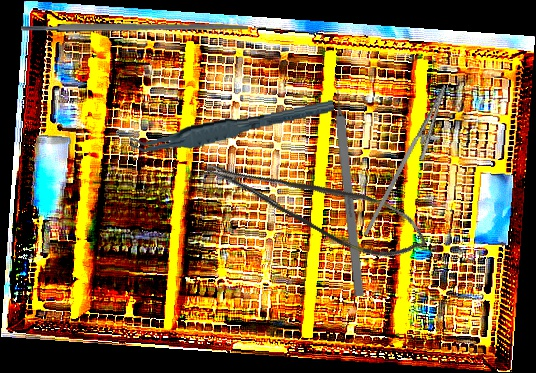Hook Surgical: (330, 73, 365, 297)
Micro Scissor: (200, 122, 436, 280)
Needle Holder: (362, 77, 460, 248)
Scalpel Handle: (21, 22, 248, 32)
Tissue Forceps: (126, 99, 337, 155)
